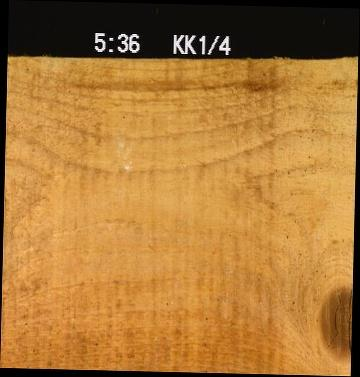sound_knot: (317, 279, 351, 360)
